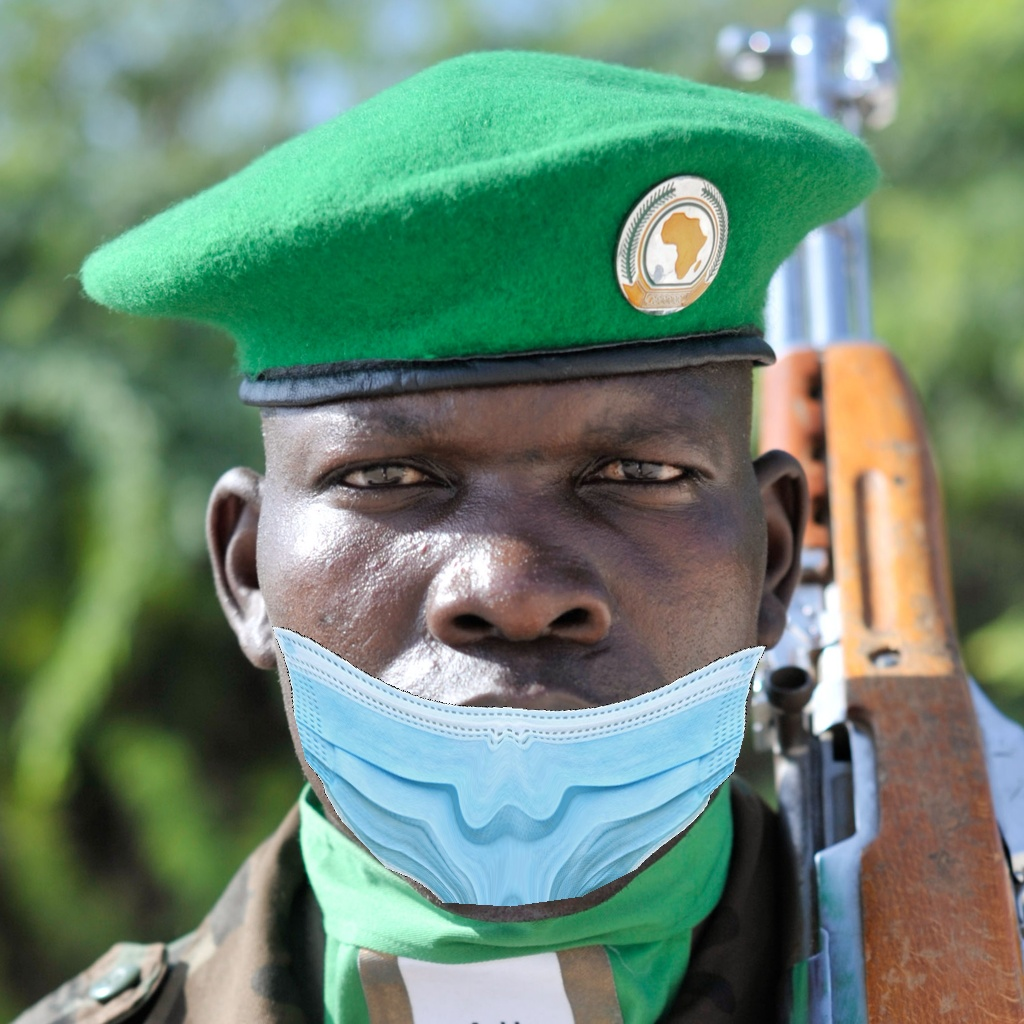mascarilla_mal_puesta: (259, 443, 784, 945)
